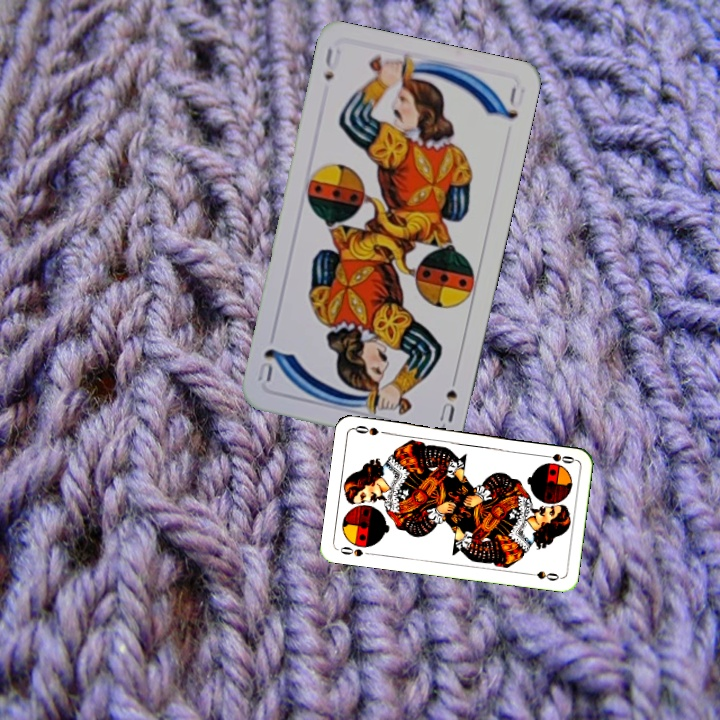SO: (537, 449, 577, 466), (335, 542, 375, 559)
SU: (435, 368, 460, 425), (320, 44, 344, 83)
